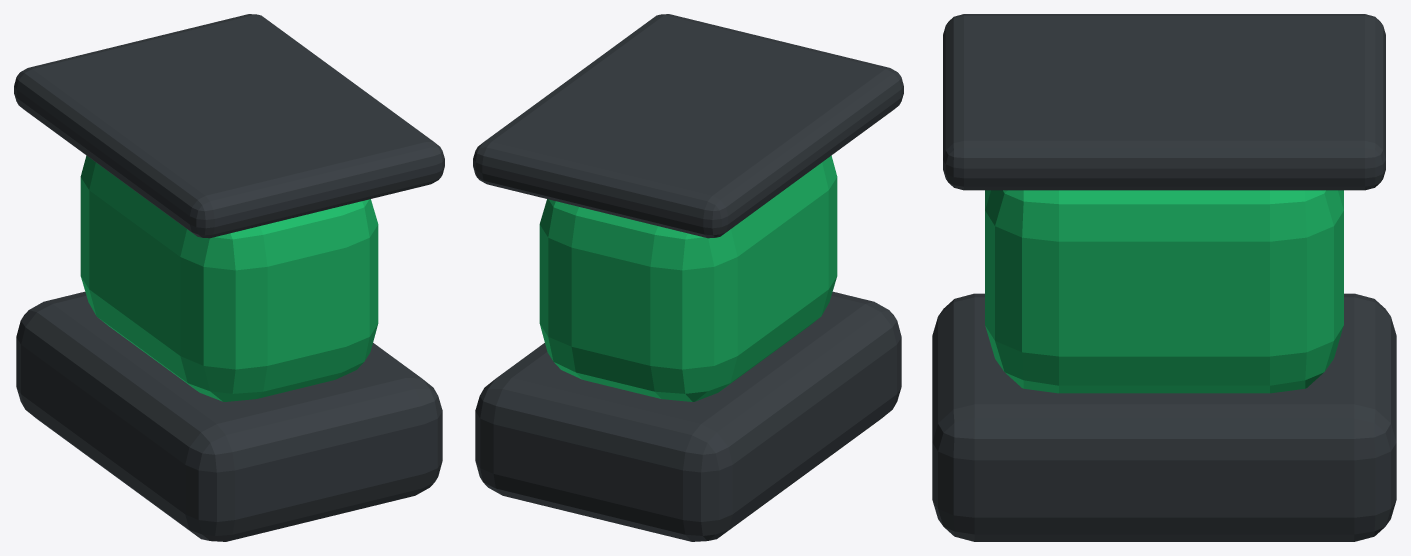
The model's file is navigation_light_starboard.glb.
The picture shows the model from 3 angles, left to right: view 1: azimuth 30°, elevation 25°; view 2: azimuth 150°, elevation 25°; view 3: azimuth 270°, elevation 25°; orthographic projection. The views are drawn at different scales.
Visible parts, largest first — view 1: Navigation light bracket.001, Protective cap.001, Sealed navigation lens.001; view 2: Navigation light bracket.001, Protective cap.001, Sealed navigation lens.001; view 3: Navigation light bracket.001, Protective cap.001, Sealed navigation lens.001.
Boxes of the visible parts, <box> form: Navigation light bracket.001: <box>16,291,442,541</box>; Protective cap.001: <box>14,14,444,238</box>; Sealed navigation lens.001: <box>80,155,378,401</box>; Navigation light bracket.001: <box>475,291,901,541</box>; Protective cap.001: <box>473,14,903,238</box>; Sealed navigation lens.001: <box>539,155,837,401</box>; Navigation light bracket.001: <box>932,293,1396,541</box>; Protective cap.001: <box>943,14,1385,190</box>; Sealed navigation lens.001: <box>985,190,1343,393</box>.
Size of the model in its own units: 0.16 by 0.2125 by 0.22.
